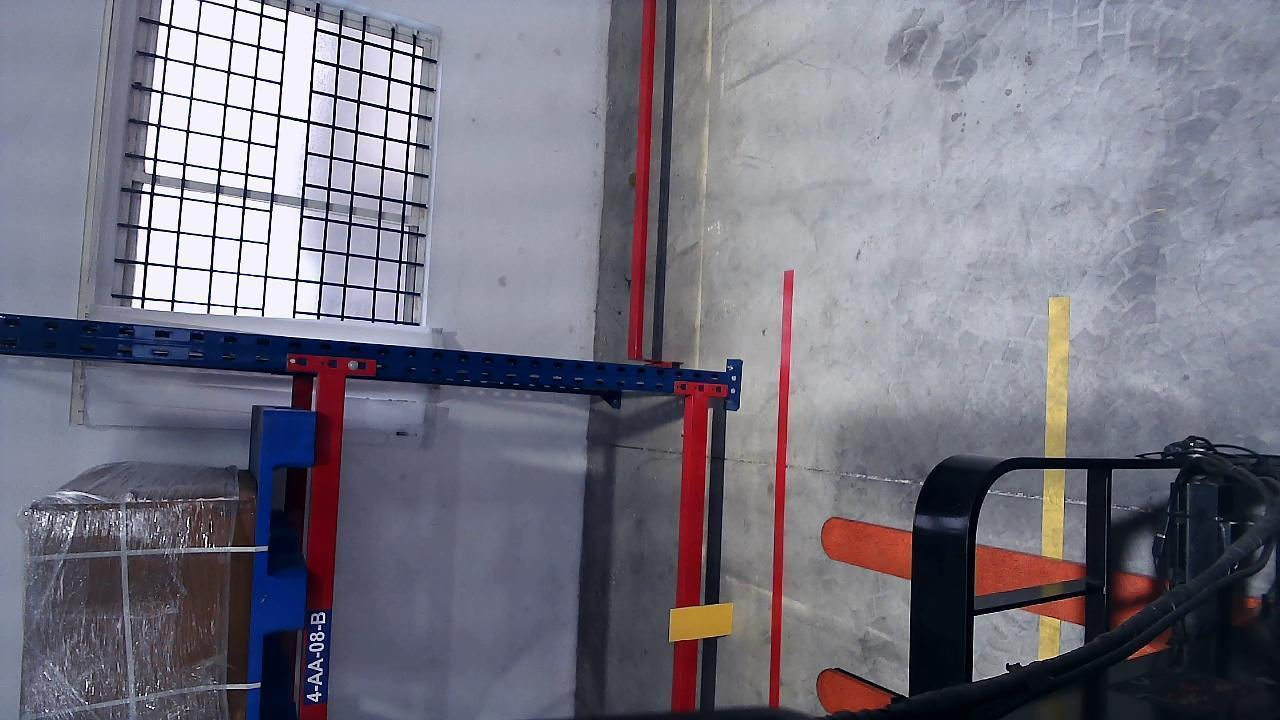red_line: (765, 274, 792, 706)
yellow_line: (1042, 295, 1071, 455)
